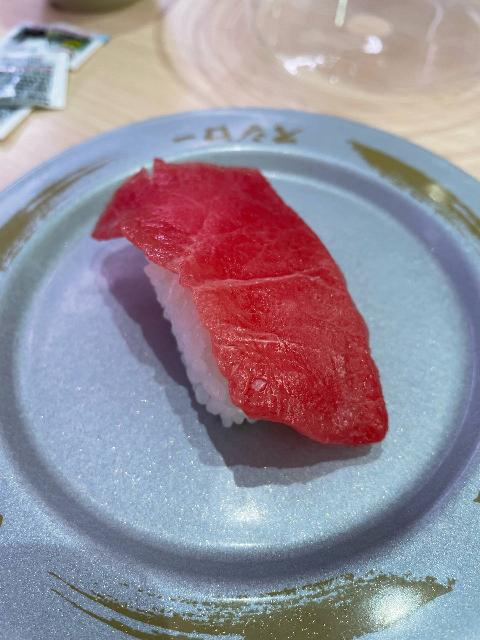janwhite: (0, 136, 480, 621)
